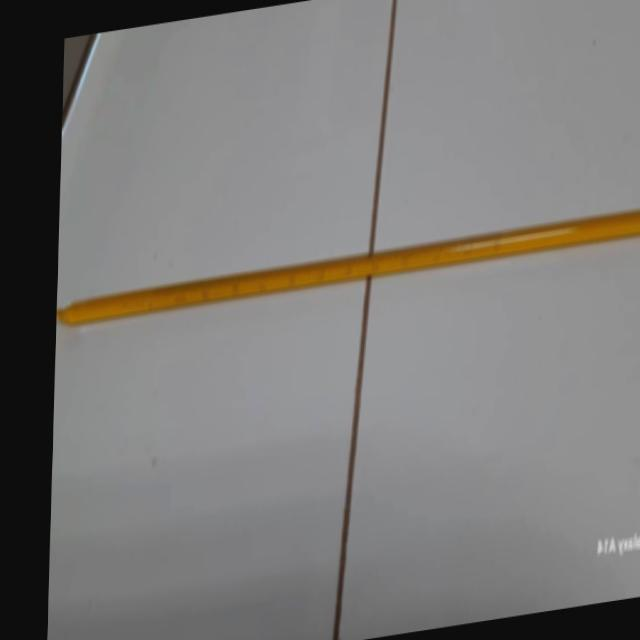Thermometer: (56, 194, 640, 337)
